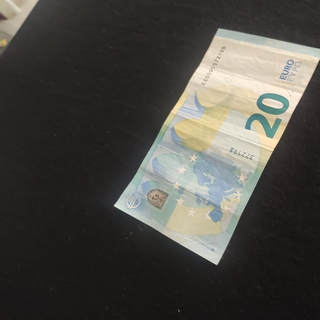20EUROBack: (112, 27, 320, 265)
